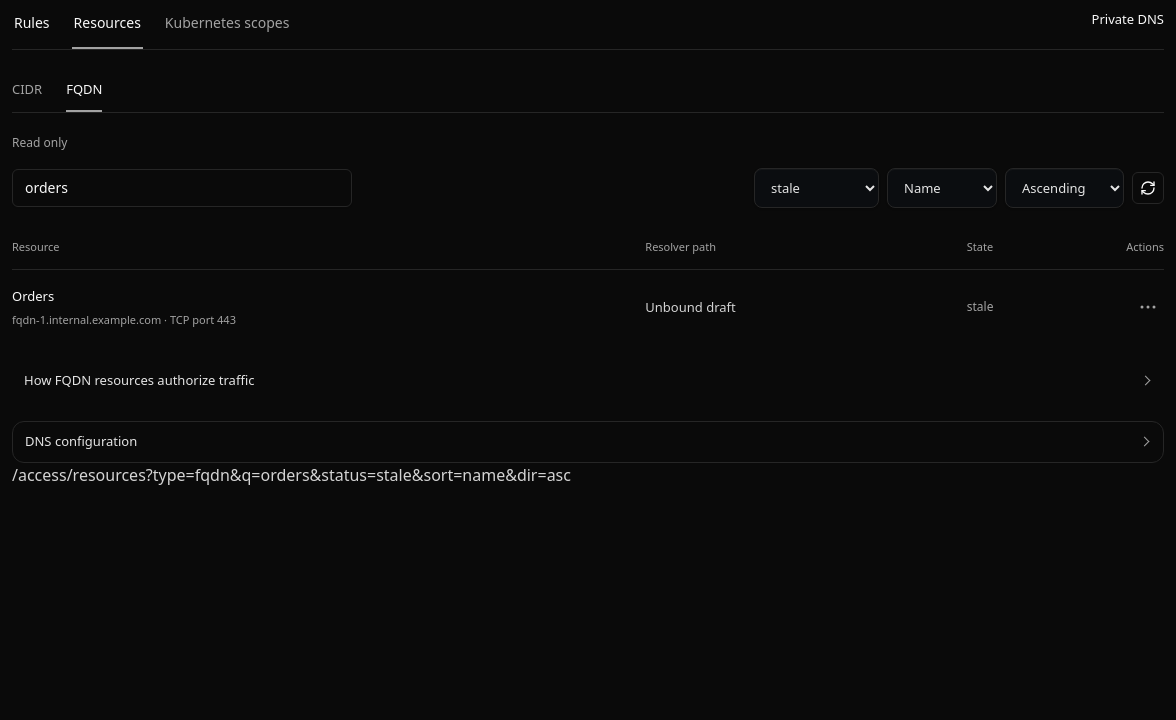
Test: FQDN resource detail route › opens the stable detail workspace from a narrow-summary View action with its full back query
Click the button named "Actions for Orders". click: (1148, 308)
box: [1132,292,1164,324]
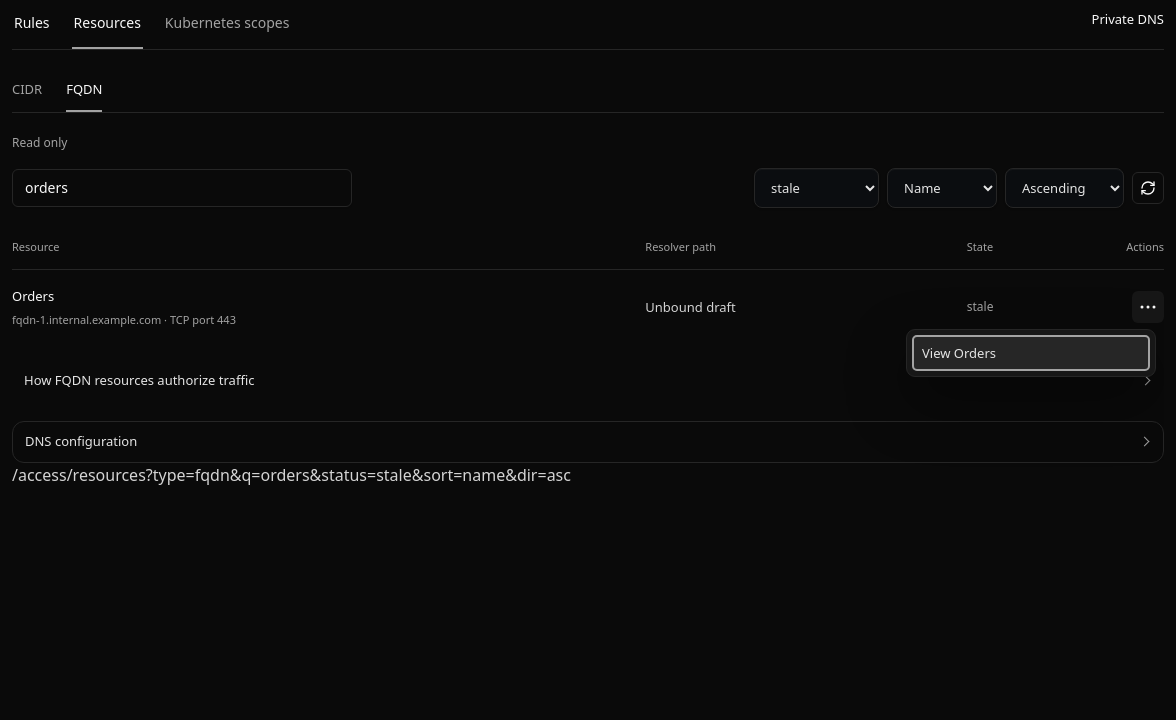
Click the menu item "View Orders". click: (1031, 354)
box: [912,336,1150,372]
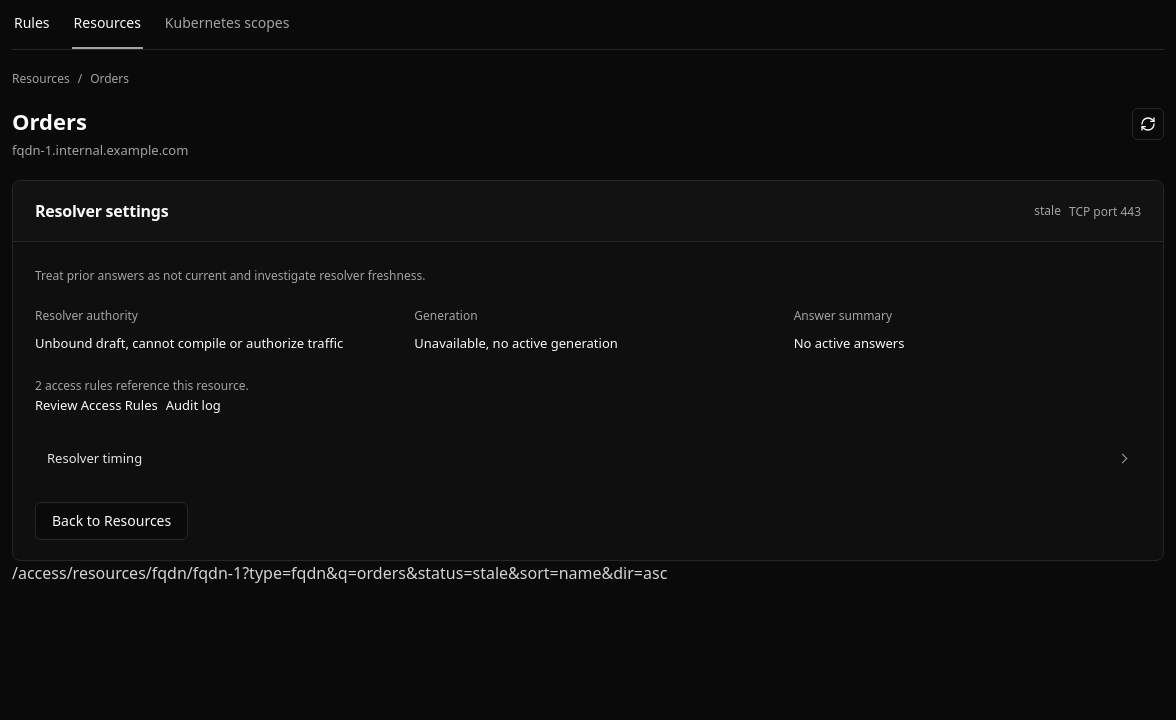
Expected: the heading "Orders" is shown, [12,106,87,136]
Expected: the text named "Resource route" reads "/access/resources/fqdn/fqdn-1?type=fqdn&q=orders&status=stale&sort=name&dir=asc", [12,562,667,584]
